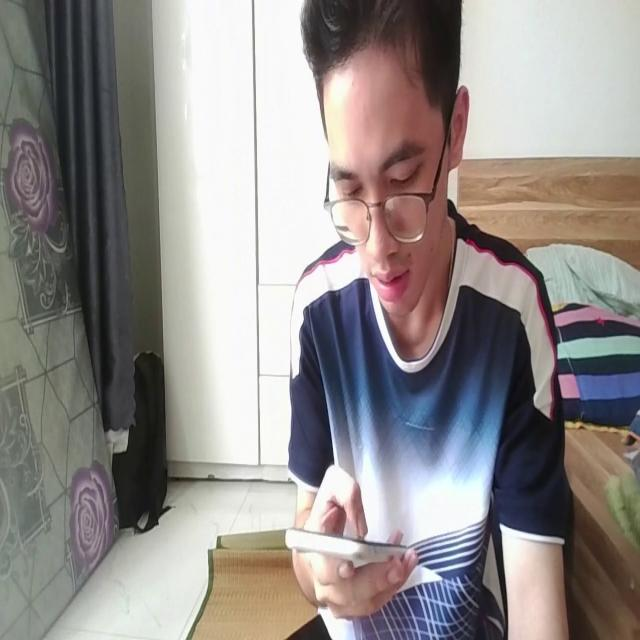phone: (281, 515, 413, 567)
student: (284, 0, 570, 640)
